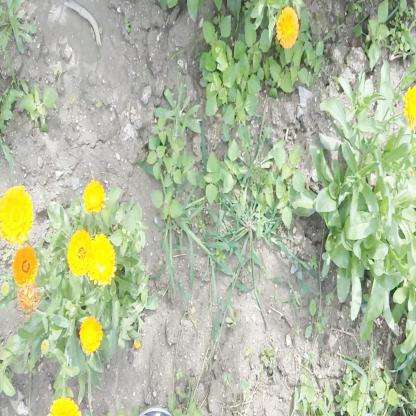marigold: (0, 183, 36, 248), (66, 226, 95, 277), (90, 233, 116, 287), (13, 248, 37, 288), (276, 6, 299, 44), (78, 316, 102, 350), (83, 178, 104, 215)
